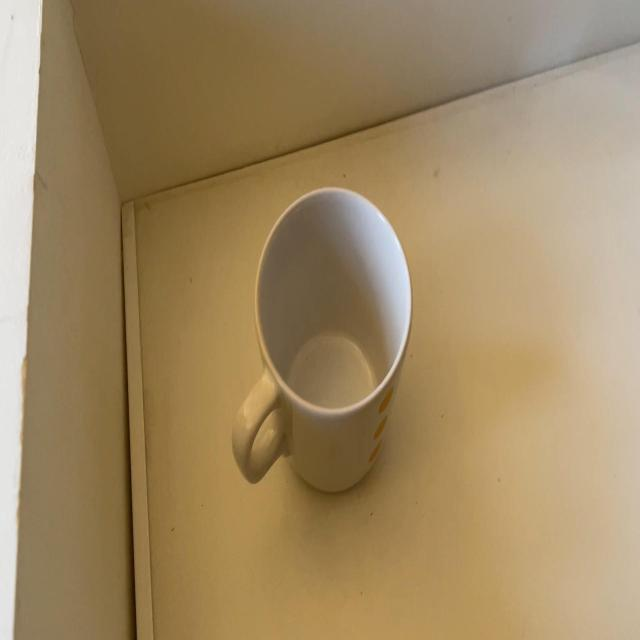cup: (232, 183, 413, 499)
